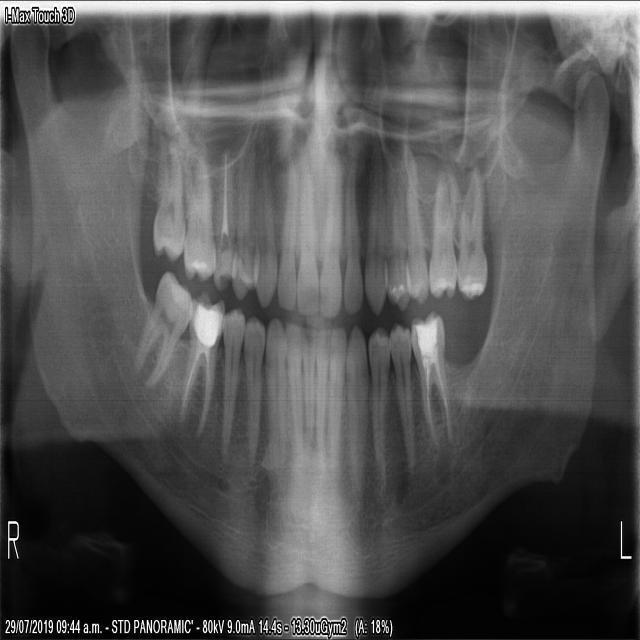LCD: (342, 319, 367, 499)
LCU: (361, 137, 386, 318)
LID: (326, 323, 346, 479), (311, 323, 329, 466)
LIU: (315, 149, 340, 319), (340, 159, 362, 316)
LMD: (407, 303, 452, 450)
LMU: (453, 164, 486, 304), (424, 163, 456, 301)
LPMD: (384, 317, 413, 468), (364, 320, 389, 482)
LPMU: (380, 151, 410, 312), (402, 151, 428, 308)
RCD: (262, 312, 285, 480)
RCU: (248, 142, 276, 308)
RID: (282, 314, 301, 474), (297, 322, 315, 451)
RIU: (293, 168, 317, 316), (274, 163, 296, 313)
RMD: (131, 264, 191, 386), (176, 287, 224, 433)
RMU: (178, 151, 215, 284), (148, 143, 185, 265)
RPMD: (217, 301, 244, 454), (239, 309, 264, 462)
RPMU: (227, 152, 258, 302), (209, 144, 236, 293)
